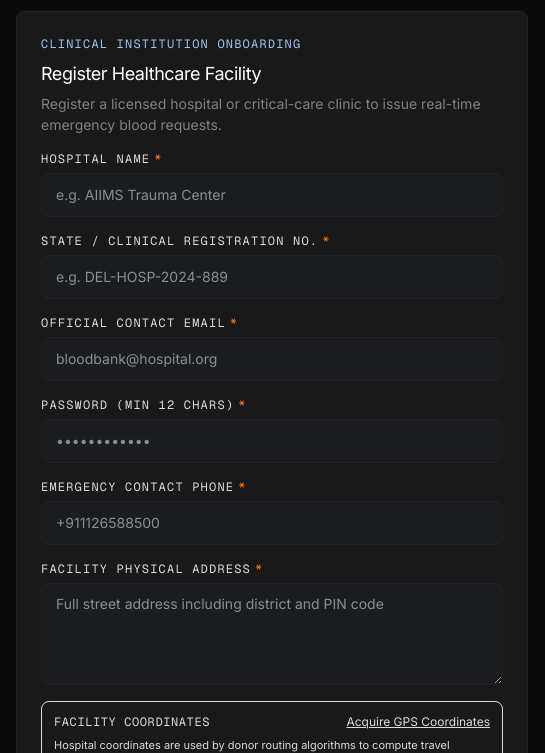
Test case: Auth Screens & Form UX Validation › registers hospital and displays pending admin approval notice
Type "City Care Hospital" into the field labelled "Hospital Name*". click: (272, 195)
box: [41, 173, 503, 217]
Type "HOSP-2026-999" into the field labelled "State / Clinical Registration No.*". click: (272, 277)
box: [41, 255, 503, 299]
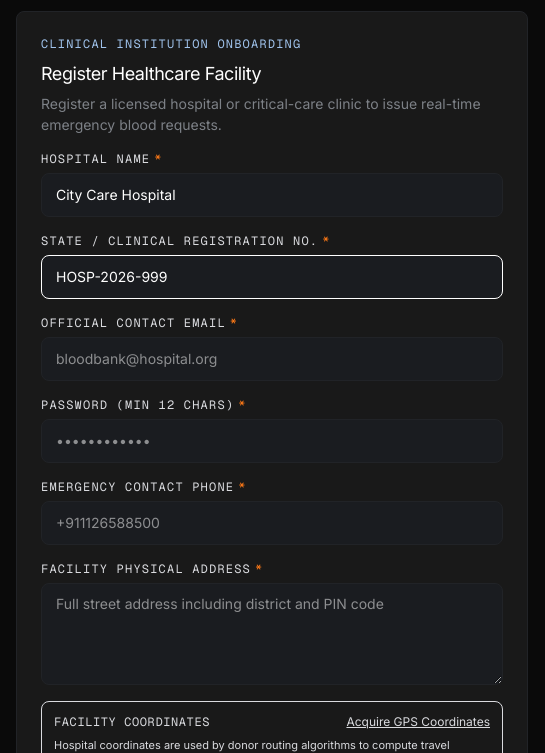
Type "contact@citycare.org" into the field labelled "Official Contact Email*". click: (272, 359)
box: [41, 337, 503, 381]
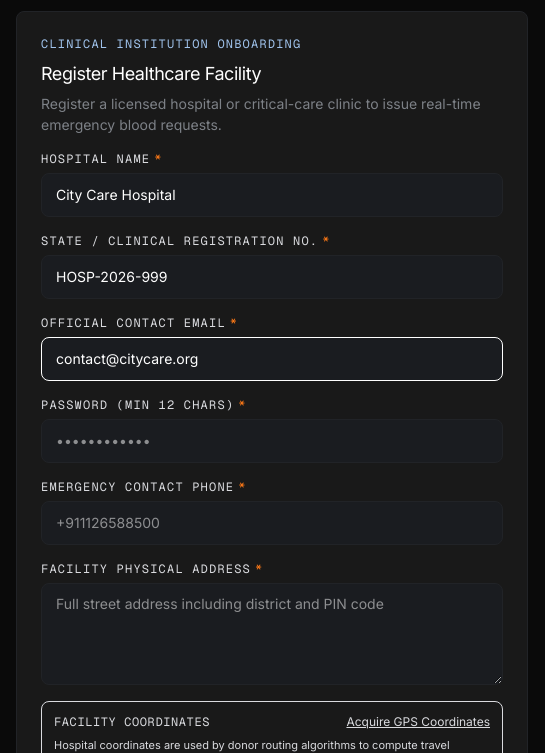
Type "SecurePassphrase123#" into the password field labelled "Password (min 12 chars)*". click: (272, 441)
box: [41, 419, 503, 463]
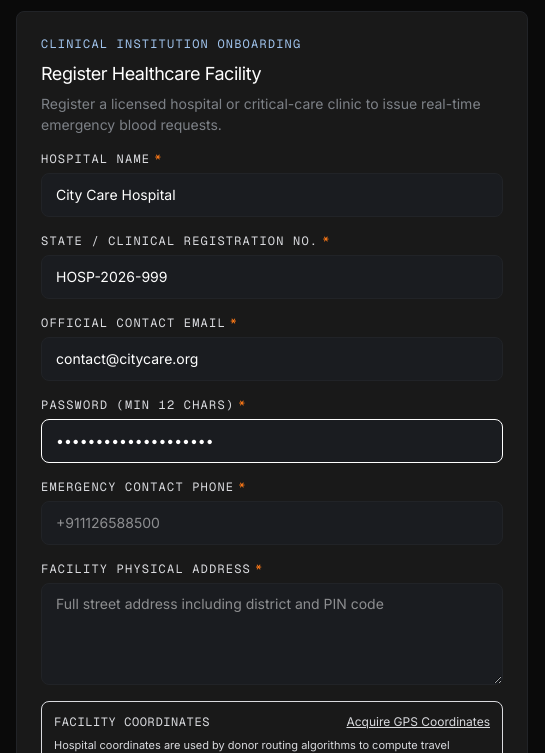
Type "+911122334455" into the field labelled "Emergency Contact Phone*". click: (272, 523)
box: [41, 501, 503, 545]
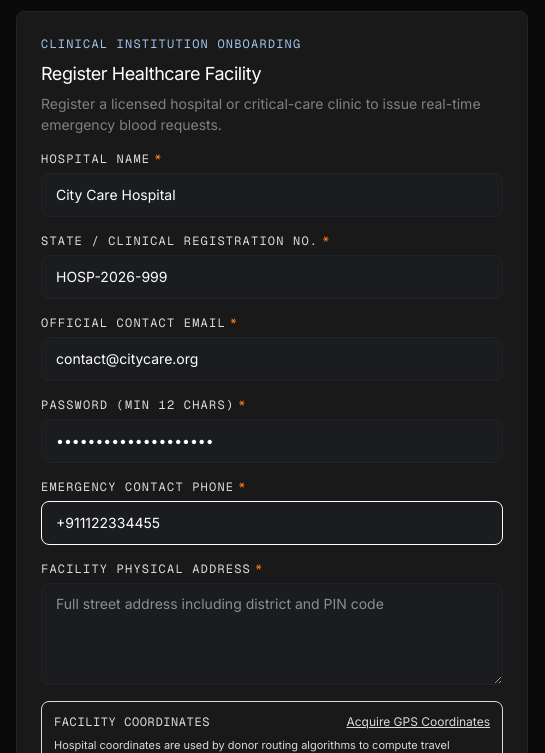
Type "Sector 14, Main Road, New Delhi 110001" into the text box labelled "Facility Physical Address*". click: (272, 634)
box: [41, 583, 503, 685]
(page scrolled)
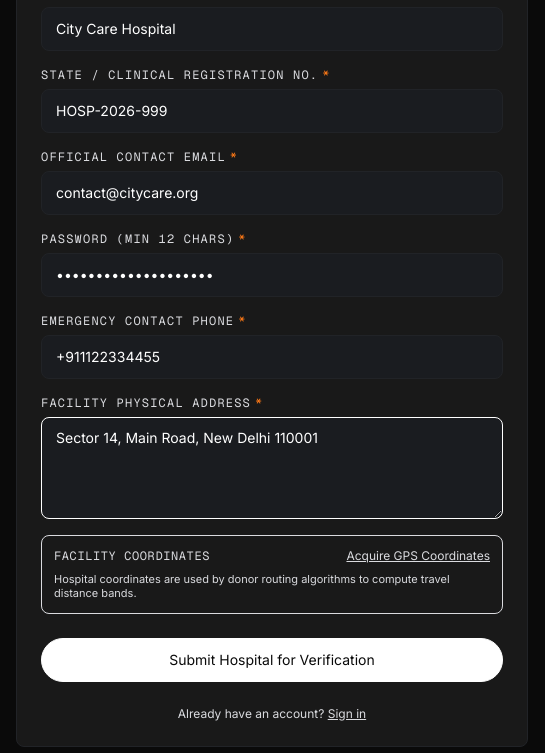
Click the button "Submit Hospital for Verification". click: (272, 660)
box: [41, 638, 503, 682]
(page scrolled)
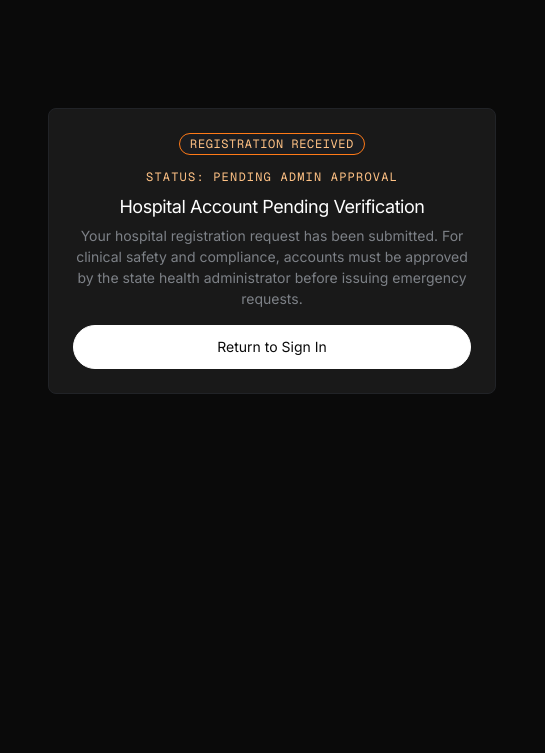
Expected: the heading "Hospital Account Pending Verification" is shown, [119, 196, 424, 217]
Expected: the text "STATUS: PENDING ADMIN APPROVAL" is shown, [146, 169, 398, 185]
